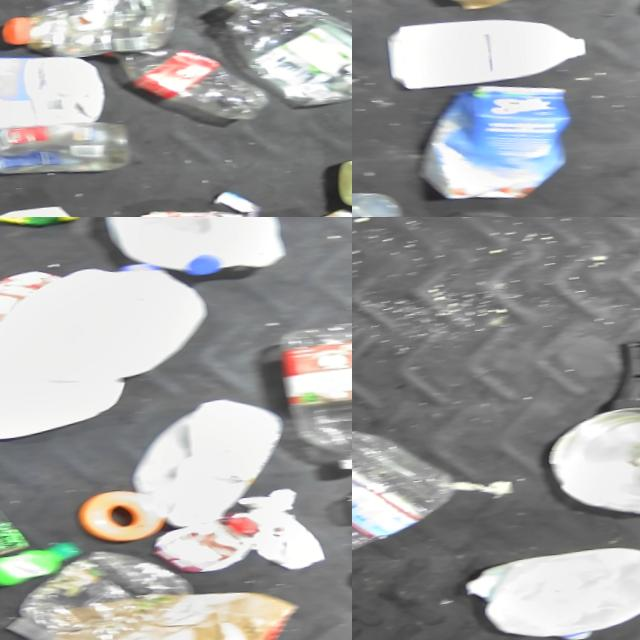can: (442, 69, 603, 192)
milk_jug: (0, 251, 214, 393), (123, 389, 295, 533), (462, 536, 640, 640), (381, 9, 591, 96), (0, 336, 130, 448), (96, 217, 289, 284)
non_white_jug: (147, 506, 261, 577)
plastic_bottle: (352, 420, 460, 562), (0, 0, 194, 65), (121, 41, 268, 126), (276, 312, 352, 473)
